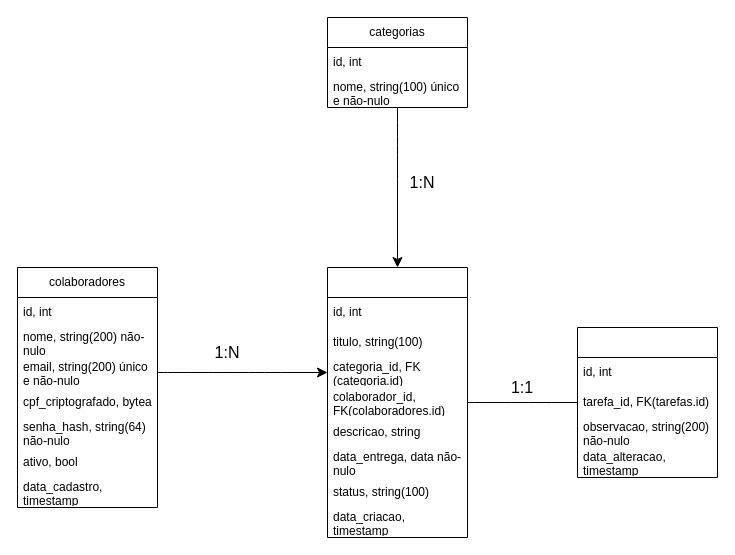
Some shapes in this 735 by 555 pixel diagram are drawn without their labels. The box of each missing label's shape, as (x1, y1, x2, y2) in pixels:
historico_tarefas: (576, 326, 718, 478)
tarefas: (326, 266, 468, 538)
